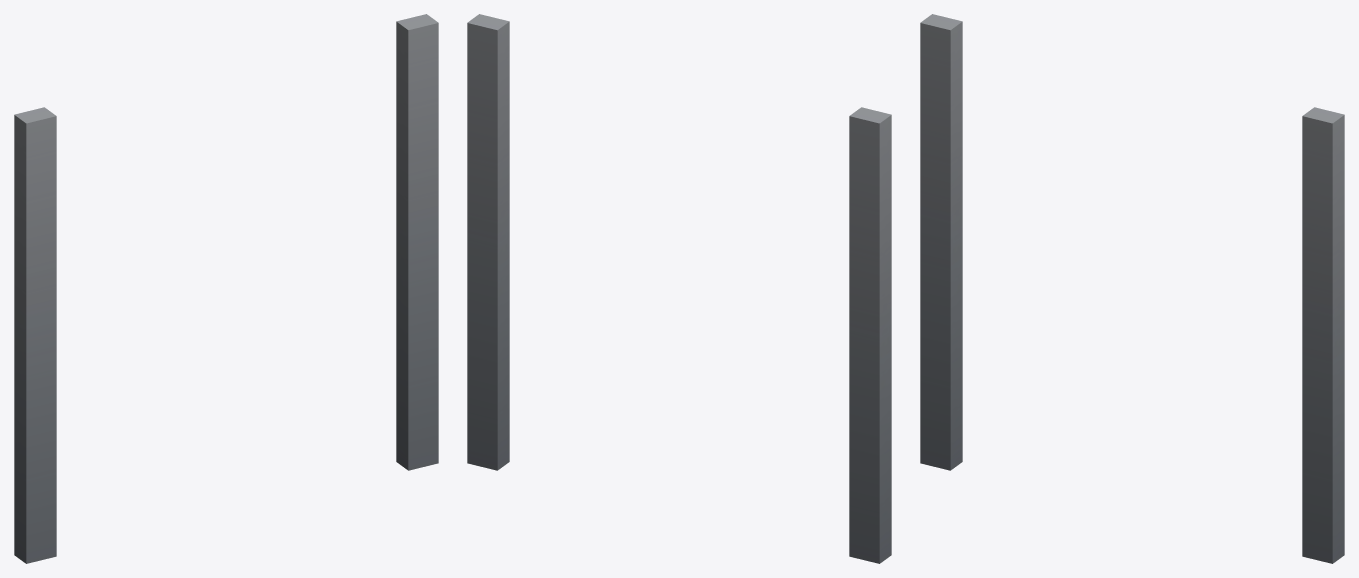
Rendered from puente_vigas.fbx.
The picture shows the model from 3 angles, left to right: view 1: azimuth 30°, elevation 25°; view 2: azimuth 150°, elevation 25°; view 3: azimuth 330°, elevation 25°; orthographic projection.
Parts seen in each view (by area): view 1: Puente_vigas; view 2: Puente_vigas; view 3: Puente_vigas.
Part boxes in pixels (left/top/right/bottom): Puente_vigas: left=14, top=14, right=438, bottom=563; Puente_vigas: left=467, top=14, right=891, bottom=563; Puente_vigas: left=920, top=14, right=1344, bottom=563.
Bounding box in the file's own units: 2222 × 2267 × 113.
